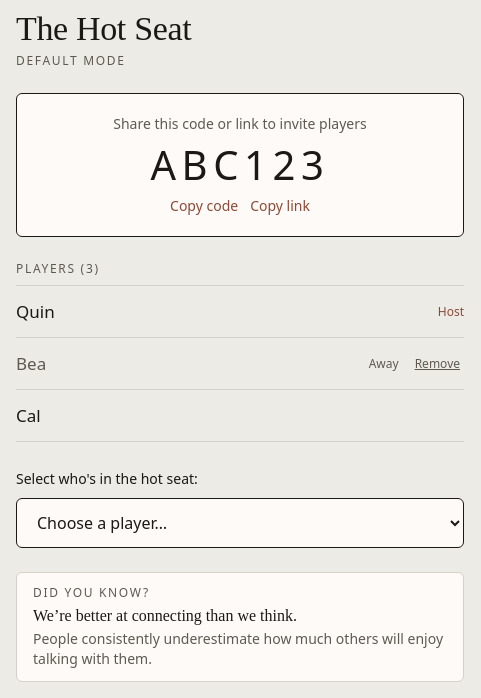
Test: Hot Seat lobby: players who left › removes them and refreshes the lobby
The image size is (481, 698).
Click the button with aria-label "Remove Bea".
click(437, 364)  # box [411, 342, 464, 386]
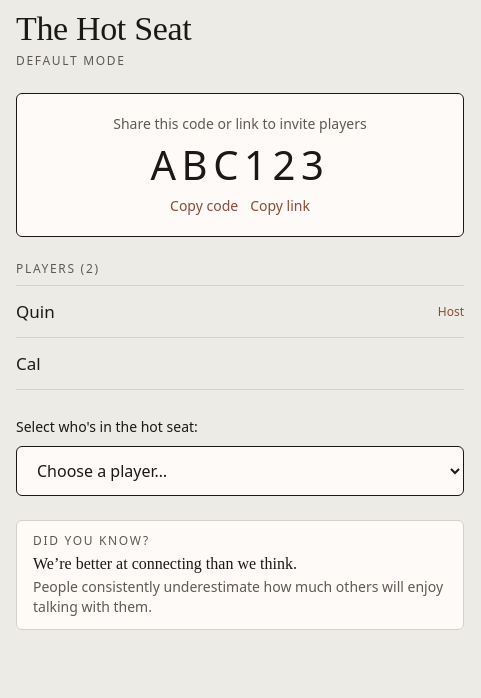
Expected: the text "Bea" is gone
